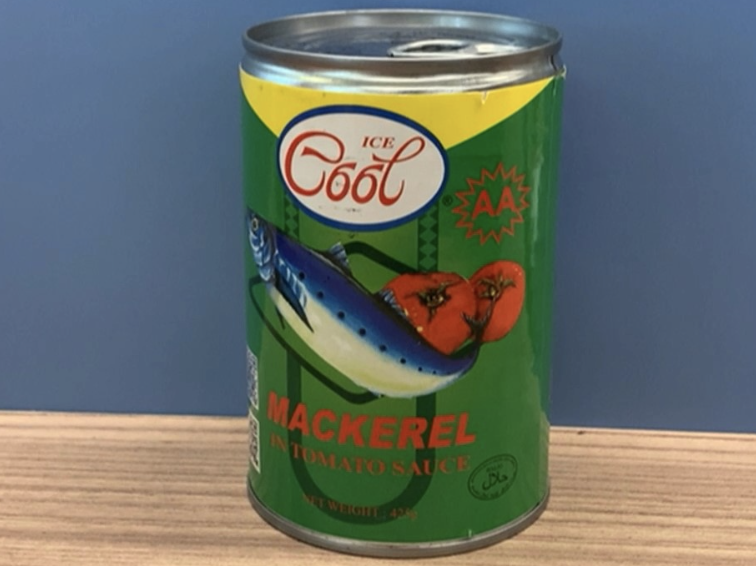sardines_450g: (250, 86, 540, 516)
